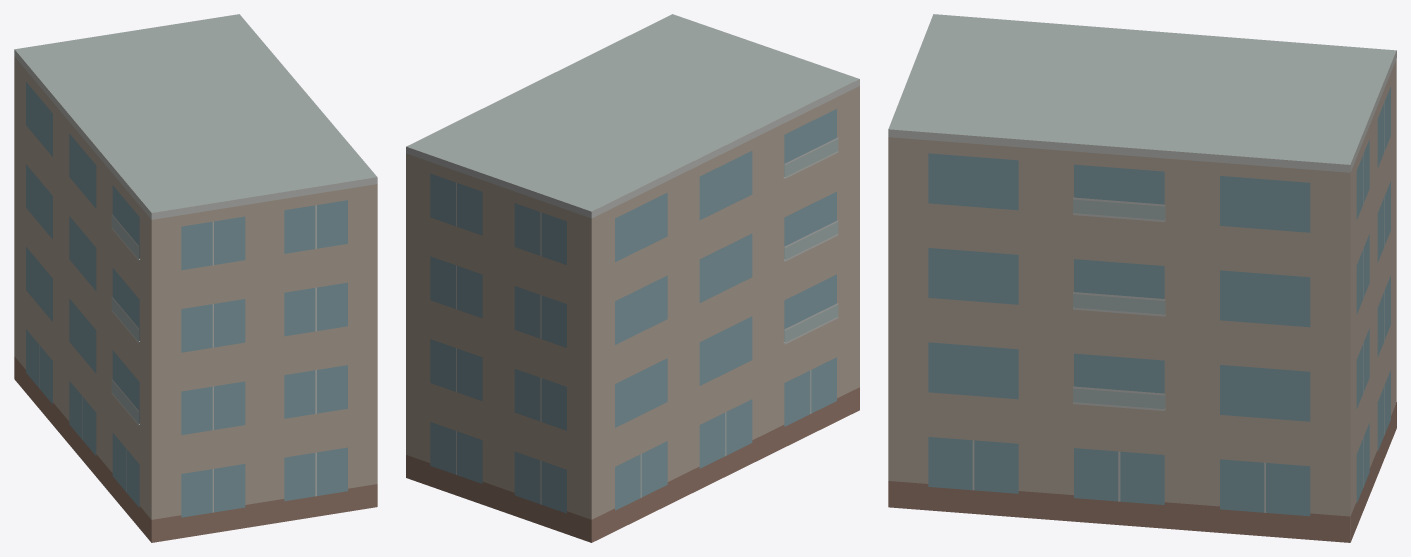
Rendered from survey-upis-32537226.glb.
The picture shows the model from 3 angles, left to right: view 1: azimuth 30°, elevation 25°; view 2: azimuth 150°, elevation 25°; view 3: azimuth 270°, elevation 25°; orthographic projection. The views are drawn at different scales.
Visible parts, largest first — view 1: survey-upis-32537226.tmp; view 2: survey-upis-32537226.tmp; view 3: survey-upis-32537226.tmp.
Boxes of the visible parts, <box> form: survey-upis-32537226.tmp: <box>14,14,377,542</box>; survey-upis-32537226.tmp: <box>406,14,859,542</box>; survey-upis-32537226.tmp: <box>888,14,1396,542</box>.
Size of the model in its own units: 10.11 by 11.8 by 14.4.
